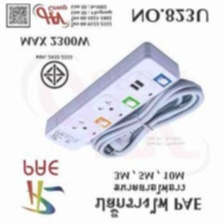three_eye_plug: (40, 40, 183, 156)
